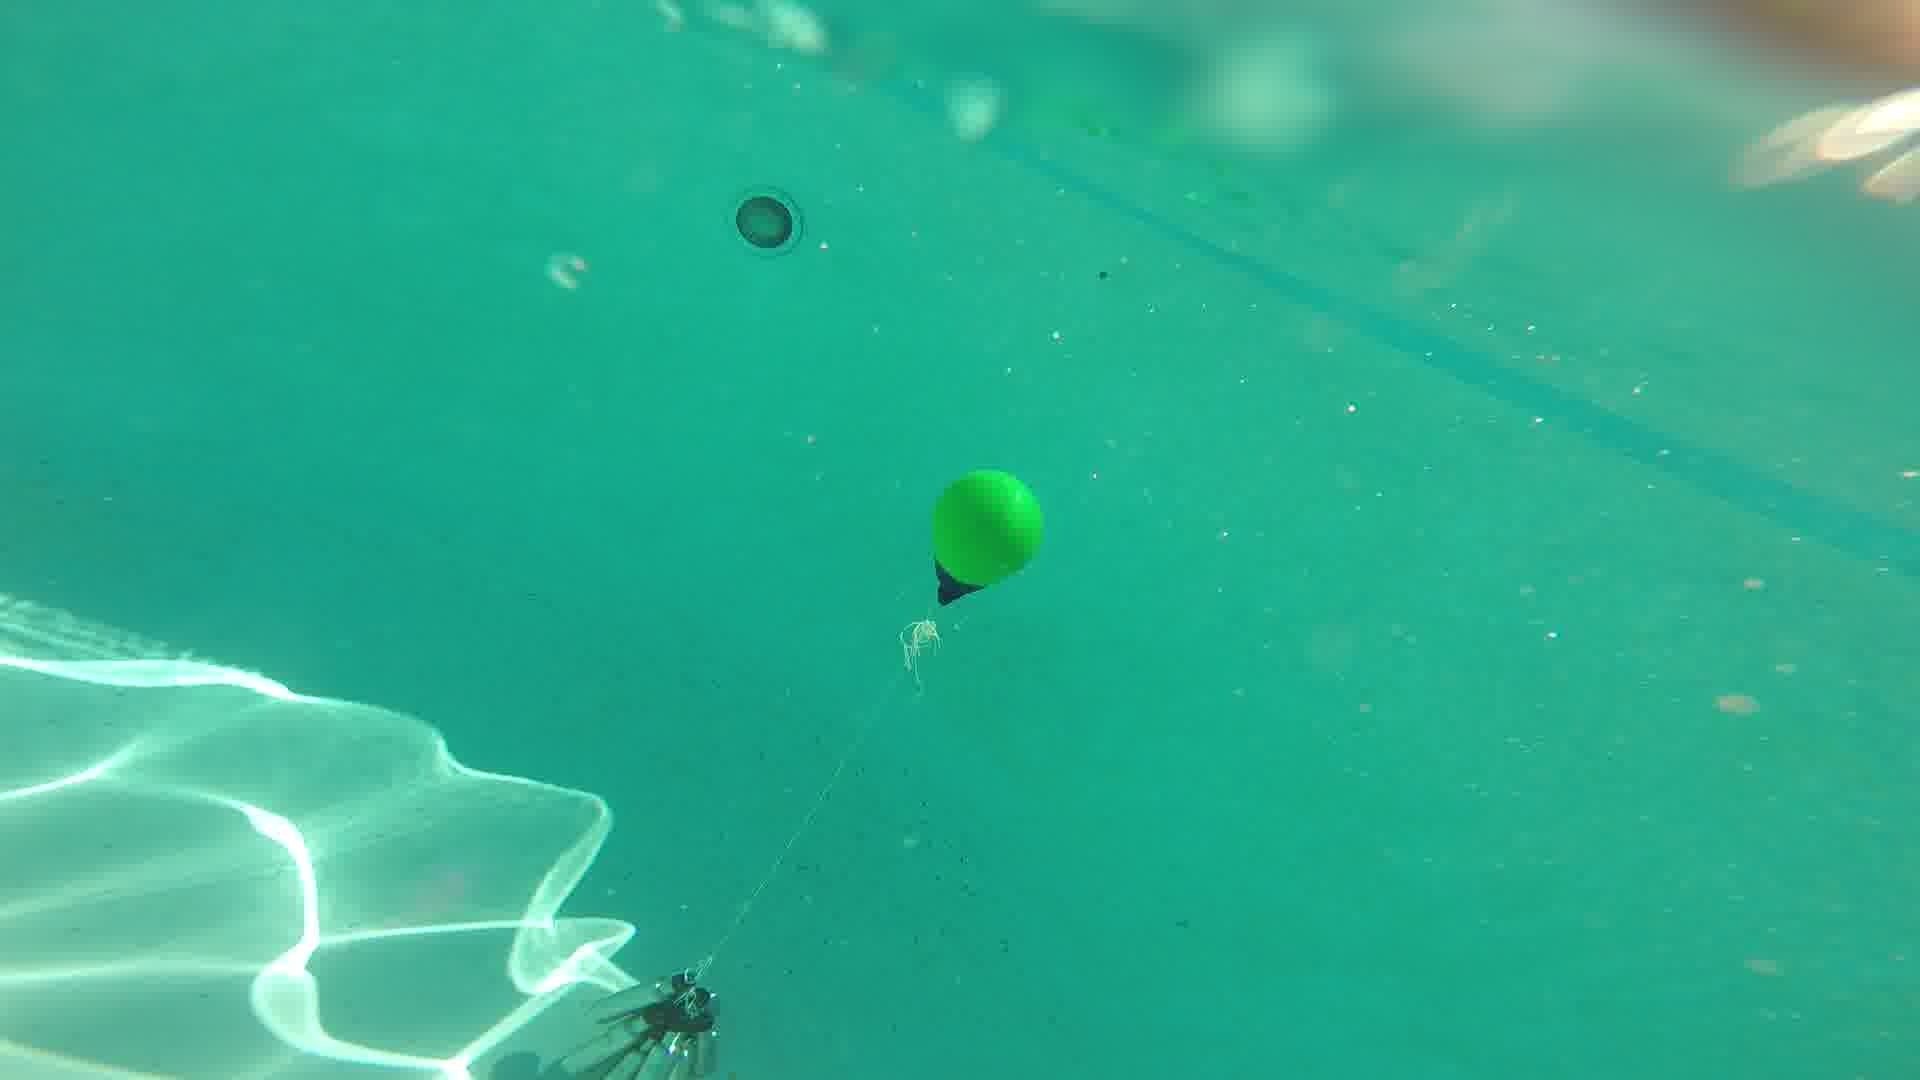yellow_buoy: (936, 469, 1044, 607)
